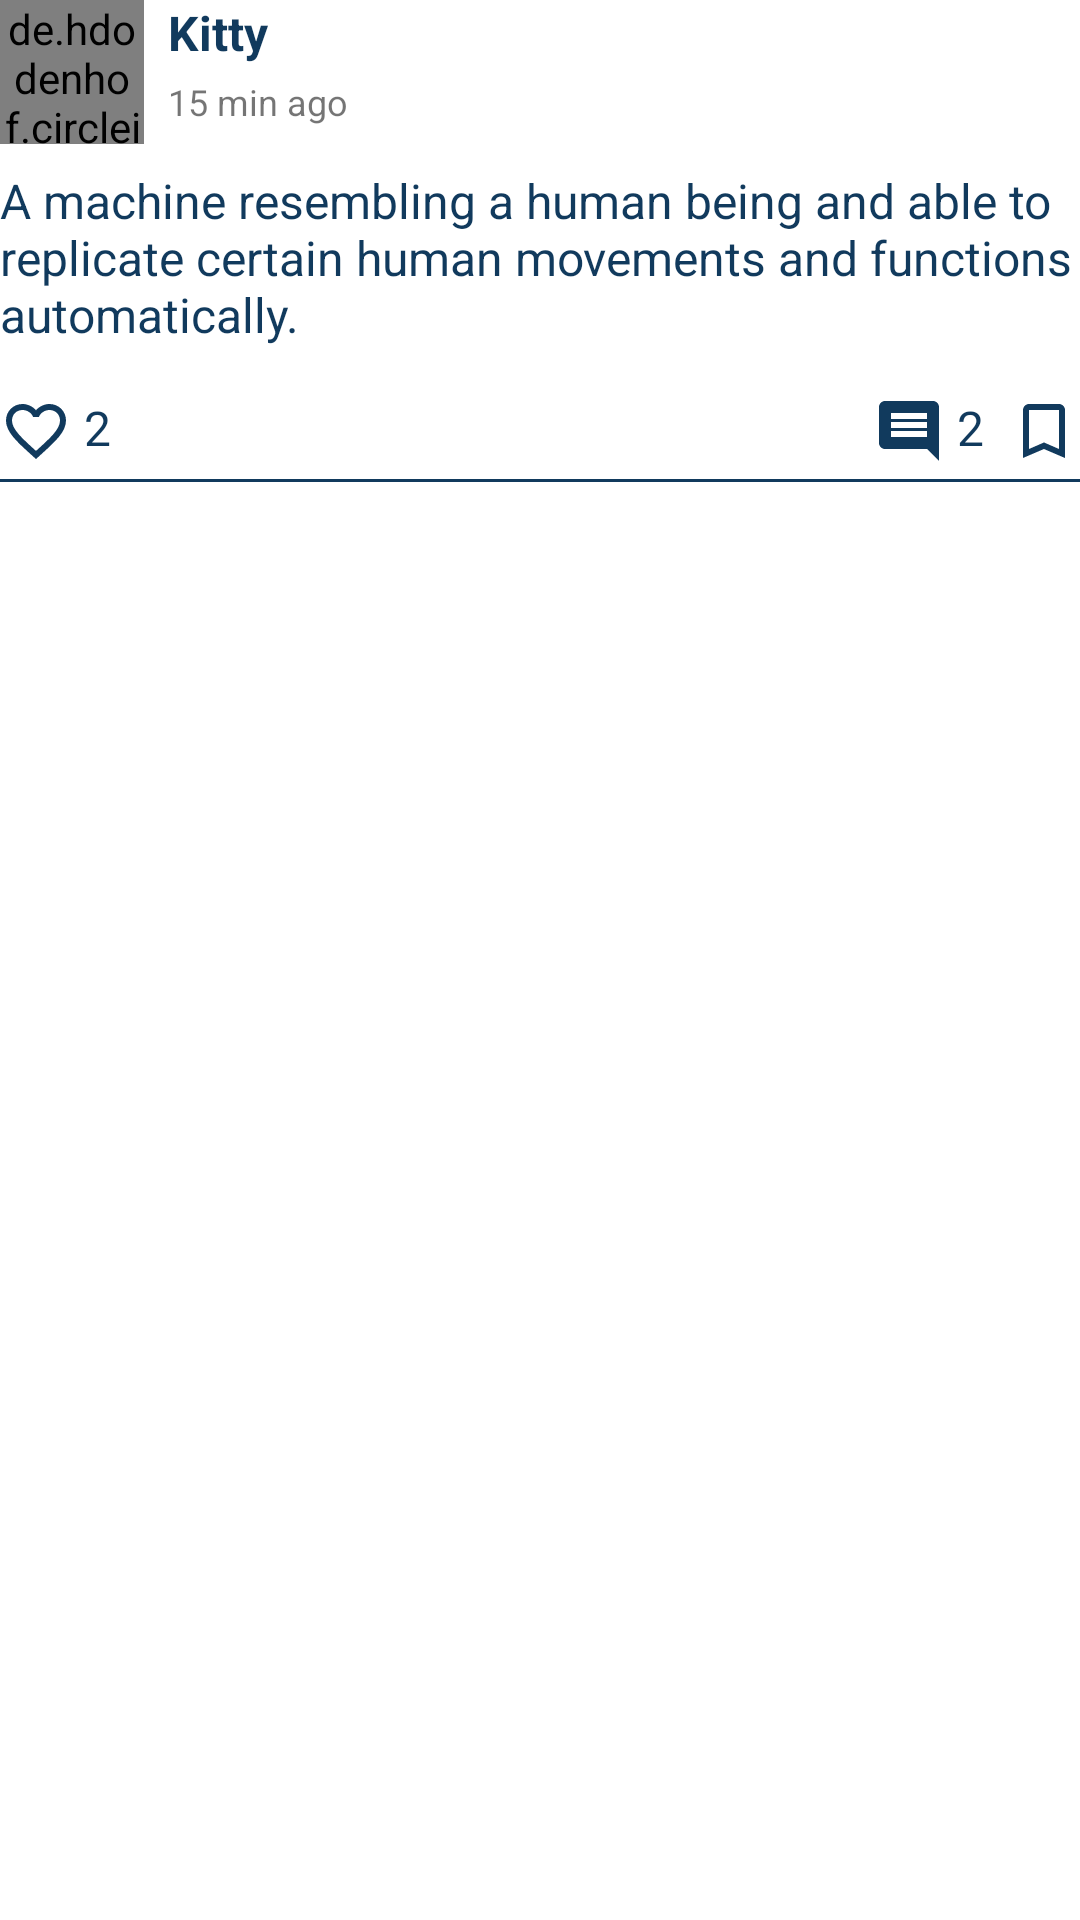

Icons on this 1080px x 1920px Android screen, each with its box as (x1,y1,x2,y2):
bookmark border: (1023,404,1065,458)
comment: (879,401,939,461)
favorite border: (6,404,66,459)
